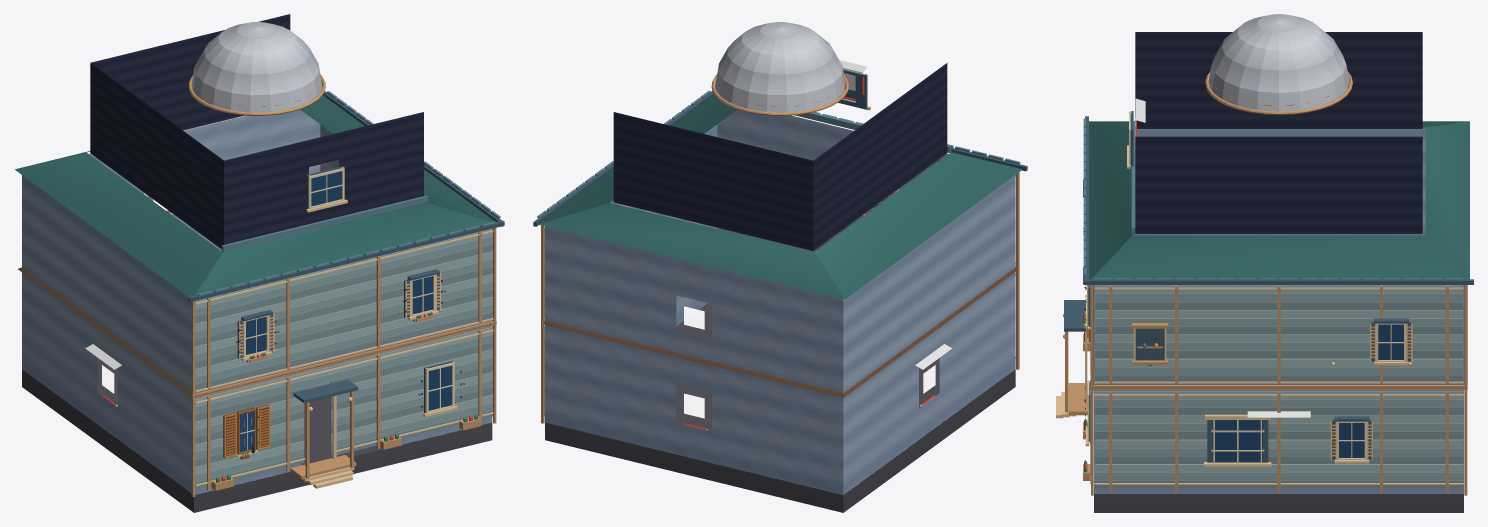
The model's file is exterior-home-B6_3NCeY.glb.
3 views of the same model, side by side, from view 1: azimuth 30°, elevation 25°; view 2: azimuth 150°, elevation 25°; view 3: azimuth 270°, elevation 25° (orthographic). The views are drawn at different scales.
Parts seen in each view (by area): view 1: WallLeft, RoofMain, ObsFront, ObsLeft, Foundation, ObsDome, ObsBack, WallBack, EXT_Front_Upper_Board_1, EXT_Front_Upper_Board_9, EXT_Front_Upper_Board_10, EXT_Front_Lower_Board_10 (+39 smaller); view 2: WallBack, WallLeft, RoofMain, ObsBack, ObsLeft, Foundation, ObsDome, WallFront, BeltCourse, EXT_Corner_9.49_9.49, EXT_Corner_-9.49_-9.49, WallRight (+3 smaller); view 3: ObsRight, RoofMain, ObsLeft, ObsDome, Foundation, WallRight, WallLeft, EXT_Right_Lower_Board_1, EXT_Right_Lower_Board_10, EXT_Right_Upper_Board_10, EXT_Right_Lower_Board_9, EXT_Right_Upper_Board_1 (+37 smaller).
Part boxes in pixels (left/top/right/bottom): WallLeft: left=22, top=175, right=191, bottom=492; RoofMain: left=15, top=95, right=495, bottom=296; ObsFront: left=224, top=112, right=423, bottom=244; ObsLeft: left=90, top=63, right=223, bottom=248; Foundation: left=22, top=358, right=492, bottom=512; ObsDome: left=192, top=22, right=322, bottom=112; ObsBack: left=90, top=14, right=290, bottom=130; WallBack: left=89, top=109, right=320, bottom=251; EXT_Front_Upper_Board_1: left=195, top=304, right=492, bottom=384; EXT_Front_Upper_Board_9: left=195, top=244, right=492, bottom=323; EXT_Front_Upper_Board_10: left=195, top=236, right=492, bottom=315; EXT_Front_Lower_Board_10: left=195, top=334, right=492, bottom=414; WallBack: left=545, top=226, right=843, bottom=494; WallLeft: left=843, top=175, right=1015, bottom=494; RoofMain: left=538, top=95, right=1022, bottom=299; ObsBack: left=613, top=112, right=813, bottom=250; ObsLeft: left=813, top=63, right=947, bottom=250; Foundation: left=545, top=303, right=1015, bottom=512; ObsDome: left=715, top=22, right=845, bottom=112; WallFront: left=717, top=109, right=948, bottom=252; BeltCourse: left=543, top=267, right=1018, bottom=397; EXT_Corner_9.49_9.49: left=541, top=225, right=544, bottom=423; EXT_Corner_-9.49_-9.49: left=1016, top=172, right=1019, bottom=369; WallRight: left=610, top=124, right=717, bottom=325; ObsRight: left=1135, top=136, right=1422, bottom=233; RoofMain: left=1089, top=121, right=1469, bottom=279; ObsLeft: left=1135, top=32, right=1422, bottom=128; ObsDome: left=1208, top=14, right=1349, bottom=111; Foundation: left=1094, top=494, right=1463, bottom=512; WallRight: left=1094, top=285, right=1463, bottom=493; WallLeft: left=1132, top=127, right=1425, bottom=235; EXT_Right_Lower_Board_1: left=1095, top=472, right=1463, bottom=480; EXT_Right_Lower_Board_10: left=1095, top=399, right=1463, bottom=407; EXT_Right_Upper_Board_10: left=1095, top=293, right=1463, bottom=301; EXT_Right_Lower_Board_9: left=1095, top=407, right=1463, bottom=415; EXT_Right_Upper_Board_1: left=1095, top=367, right=1463, bottom=374.
Bounding box in the file's own units: 20.18 × 23.25 × 21.23.
